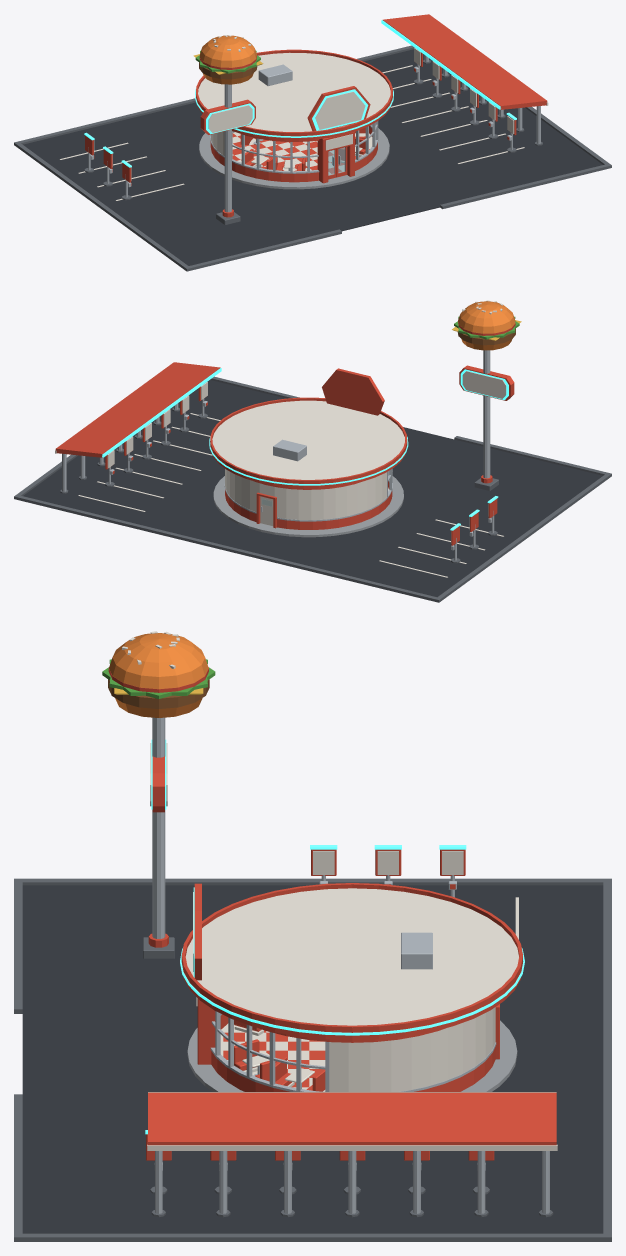
Rendered from retro-burger-drive-in.glb.
3 renders of one model, top to bottom at view 1: azimuth 30°, elevation 25°; view 2: azimuth 150°, elevation 25°; view 3: azimuth 270°, elevation 25°, orthographic. The views are drawn at different scales.
Parts seen in each view (by area): view 1: ParkingLot_Surface, Diner_Building, DriveInCanopy_Frame, BurgerSign_Pole, Diner_FloorTiles; view 2: ParkingLot_Surface, Diner_Building, DriveInCanopy_Frame, BurgerSign_Pole; view 3: ParkingLot_Surface, Diner_Building, DriveInCanopy_Frame, BurgerSign_Pole, Diner_FloorTiles, MenuPost_09, MenuPost_08, MenuPost_07.
Boxes of the visible parts, x1,y1,x2,y2 form: ParkingLot_Surface: (14, 45, 611, 271); Diner_Building: (195, 49, 393, 189); DriveInCanopy_Frame: (381, 14, 548, 145); BurgerSign_Pole: (193, 35, 263, 224); Diner_FloorTiles: (232, 133, 369, 173); ParkingLot_Surface: (14, 376, 611, 602); Diner_Building: (209, 368, 408, 537); DriveInCanopy_Frame: (55, 362, 221, 493); BurgerSign_Pole: (452, 300, 521, 490); ParkingLot_Surface: (14, 878, 611, 1241); Diner_Building: (180, 883, 524, 1091); DriveInCanopy_Frame: (147, 1092, 557, 1217); BurgerSign_Pole: (102, 631, 215, 958); Diner_FloorTiles: (223, 1030, 325, 1087); MenuPost_09: (439, 845, 466, 897); MenuPost_08: (374, 845, 401, 884); MenuPost_07: (310, 845, 337, 884).
Size of the model in its own units: 118 by 48.35 by 83.4.
